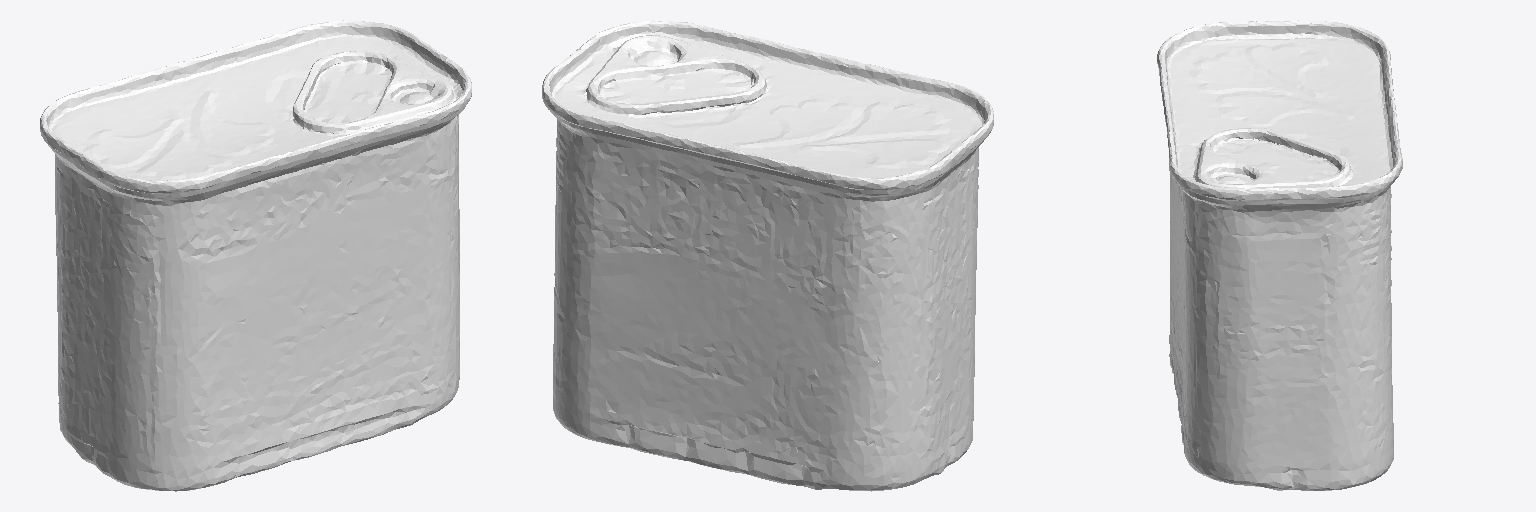
The robot description file, URDF, robot "010_potted_meat_can_0":
<?xml version='1.0' encoding='utf-8'?>
<robot name="010_potted_meat_can_0">
        <link name="link_0">
            <visual>
                <origin xyz="0.0 0.0 0.0" rpy="0.0 6.265732014659643 0.0" />
                <geometry>
                    <mesh filename="textured_objs/textured.obj" scale="1 1 1.0" />
                </geometry>
                <material name="white">
                    <color rgba="1 1 1 1" />
                </material>
            </visual>
            <collision>
                <origin xyz="0.0 0.0 0.0" rpy="0.0 6.265732014659643 0.0" />
                <geometry>
                    <mesh filename="textured_objs/textured.obj" scale="1 1 1.0" />
                </geometry>
            </collision>
            <inertial>
                <mass value="0.1" />
                <inertia ixx="0.0001" ixy="0.0" ixz="0.0" iyy="0.0001" iyz="0.0" izz="0.0001" />
            </inertial>
        </link>
    </robot>

--- Facts derived from the render (not from the file) ---
The picture shows the robot from 3 angles, left to right: view 1: azimuth 30°, elevation 25°; view 2: azimuth 150°, elevation 25°; view 3: azimuth 270°, elevation 25°; orthographic projection.
Robot: 010_potted_meat_can_0 — 1 links, 0 joints (none); root link link_0; default pose: every joint at zero.
Links seen in each view (by area): view 1: link_0; view 2: link_0; view 3: link_0.
Boxes of the visible links, <box> form: link_0: <box>40,20,471,491</box>; link_0: <box>542,20,993,491</box>; link_0: <box>1157,20,1402,490</box>.
Size in the robot's own frame: 0.1021 by 0.0601 by 0.0848 metres.
1 mesh visuals loaded from 1 distinct referenced files (1 OBJ).